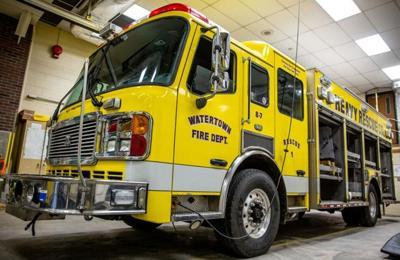firetruck_off: (1, 3, 396, 258)
